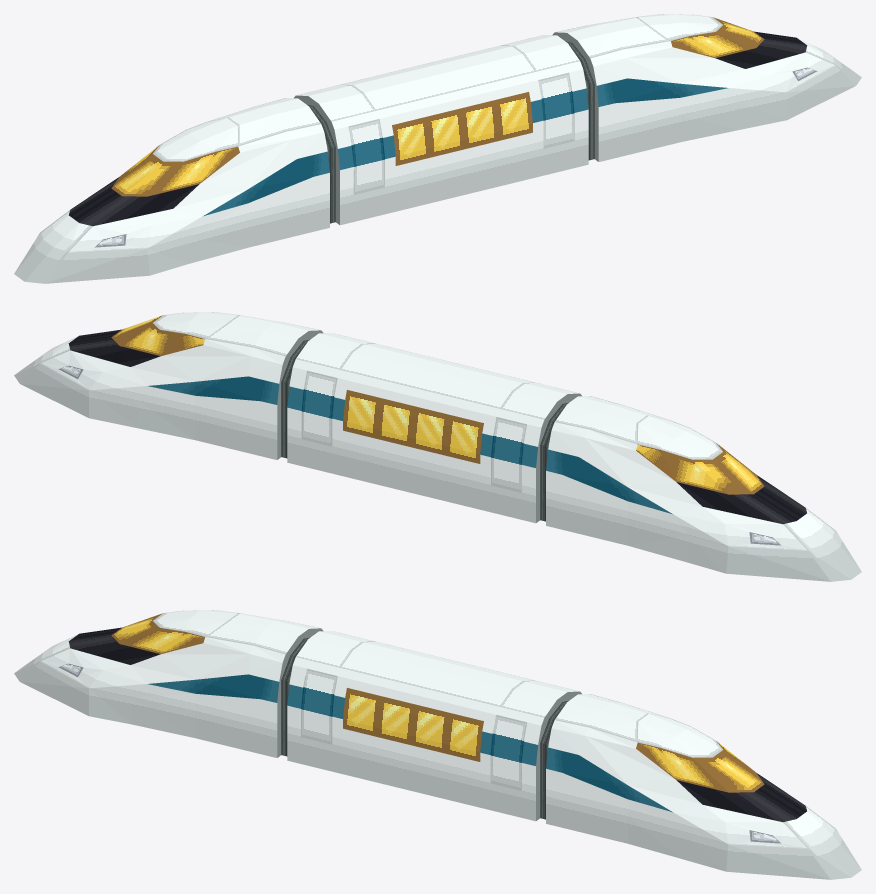
Rendered from bullet-train.glb.
The picture shows the model from 3 angles, top to bottom: view 1: azimuth 30°, elevation 25°; view 2: azimuth 150°, elevation 25°; view 3: azimuth 330°, elevation 25°; orthographic projection.
Parts seen in each view (by area): view 1: kld_s01_e_m.001; view 2: kld_s01_e_m.001; view 3: kld_s01_e_m.001.
Part boxes in pixels (x1,y1,x2,y2): kld_s01_e_m.001: (14, 14, 861, 283); kld_s01_e_m.001: (14, 312, 861, 581); kld_s01_e_m.001: (14, 610, 861, 879).
Size of the model in its own units: 548 by 66.41 by 68.94.
Materials: 15 (15 with a texture image).
